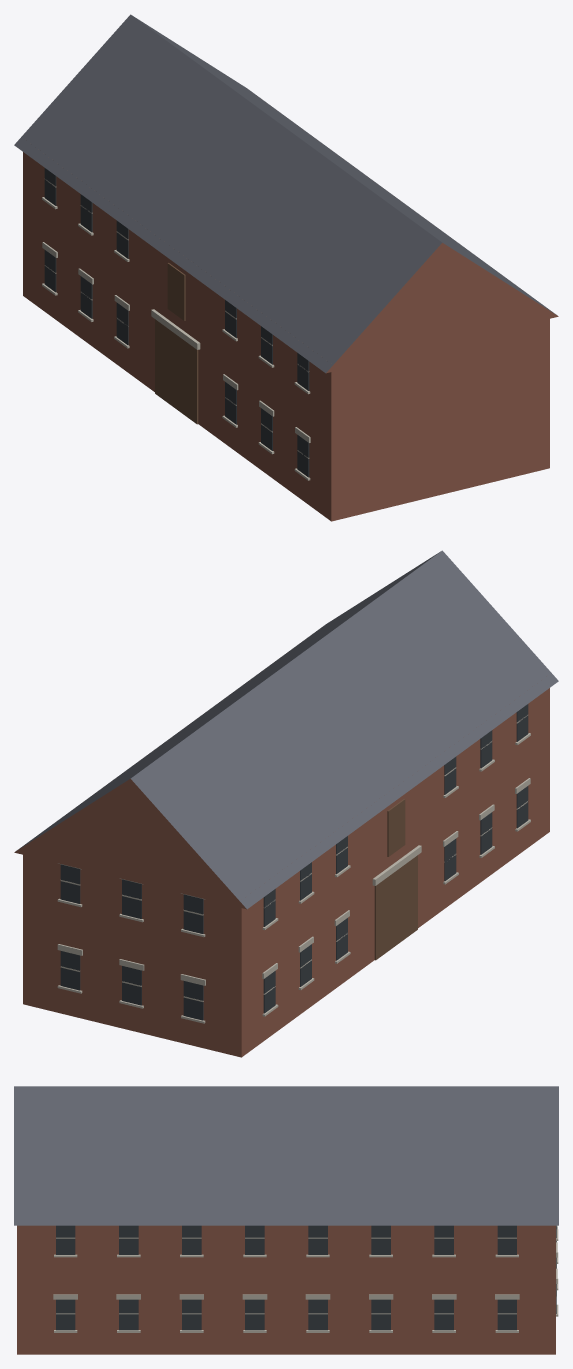
The model's file is ream_house_1901_prairie_coach_house__draft_1904.glb.
3 renders of one model, top to bottom at view 1: azimuth 30°, elevation 25°; view 2: azimuth 150°, elevation 25°; view 3: azimuth 270°, elevation 25°, orthographic. The views are drawn at different scales.
Parts seen in each view (by area): view 1: ream_house_1901_prairie_coach_house__draft_1904; view 2: ream_house_1901_prairie_coach_house__draft_1904; view 3: ream_house_1901_prairie_coach_house__draft_1904.
Boxes of the visible parts, box(x1,y1,x2,y2) form: ream_house_1901_prairie_coach_house__draft_1904: box(14, 14, 558, 521); ream_house_1901_prairie_coach_house__draft_1904: box(14, 550, 558, 1057); ream_house_1901_prairie_coach_house__draft_1904: box(14, 1086, 558, 1354).
Size of the model in its own units: 9.6 by 9.98 by 22.24.
